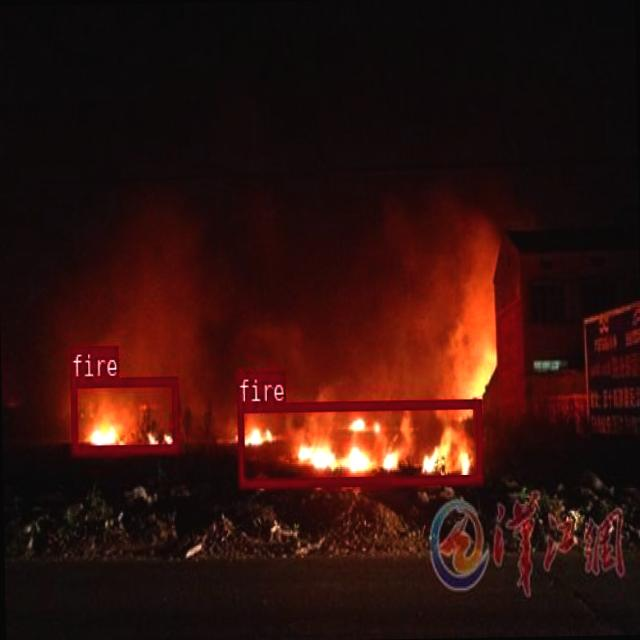fire: (236, 396, 482, 486), (70, 376, 178, 452)
